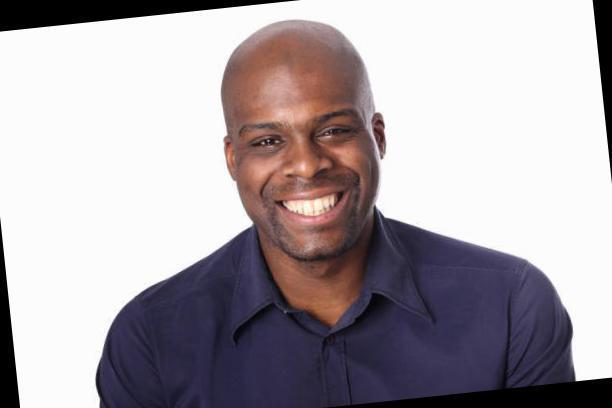Sober: (229, 68, 372, 250)
